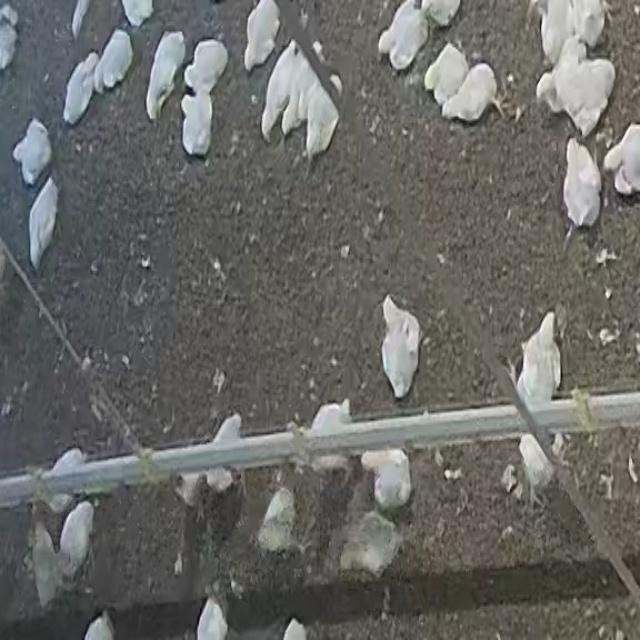chicken: (536, 37, 615, 137), (514, 310, 567, 400), (379, 292, 421, 403), (442, 63, 511, 127), (559, 137, 606, 230), (338, 509, 401, 576), (145, 31, 187, 120), (306, 403, 354, 476), (361, 448, 412, 512), (28, 177, 60, 270), (31, 518, 64, 608), (58, 501, 95, 581), (423, 43, 468, 107), (258, 487, 300, 555), (518, 433, 556, 506), (41, 448, 85, 511), (12, 118, 52, 186), (184, 38, 229, 98), (243, 1, 281, 72), (62, 53, 100, 124), (94, 29, 134, 93), (180, 90, 213, 156)
